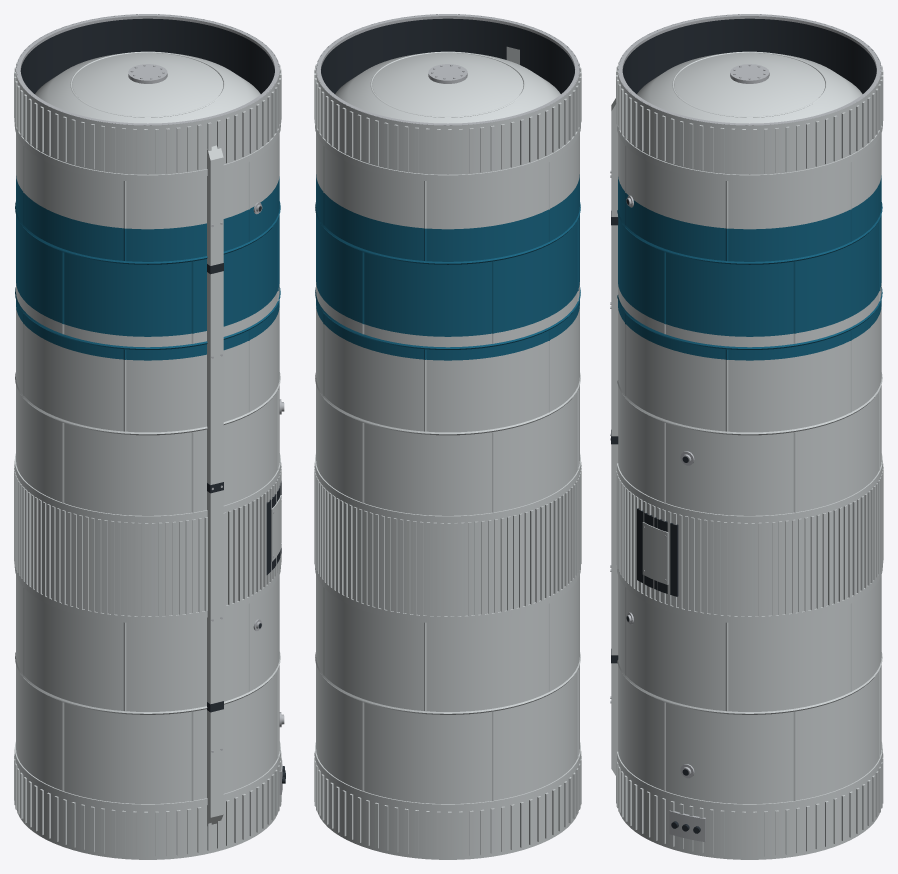
File: tank_s1_xl.fbx
The picture shows the model from 3 angles, left to right: view 1: azimuth 30°, elevation 25°; view 2: azimuth 150°, elevation 25°; view 3: azimuth 270°, elevation 25°; orthographic projection.
Visible parts, largest first — view 1: tank_s1_xl_LOD0; view 2: tank_s1_xl_LOD0; view 3: tank_s1_xl_LOD0.
Boxes of the visible parts, left/top/right/bottom form: tank_s1_xl_LOD0: left=14, top=14, right=285, bottom=859; tank_s1_xl_LOD0: left=314, top=14, right=581, bottom=859; tank_s1_xl_LOD0: left=610, top=14, right=883, bottom=859.
Size of what is drawn, in the model's own units: 8.52 by 25.8 by 8.69.
